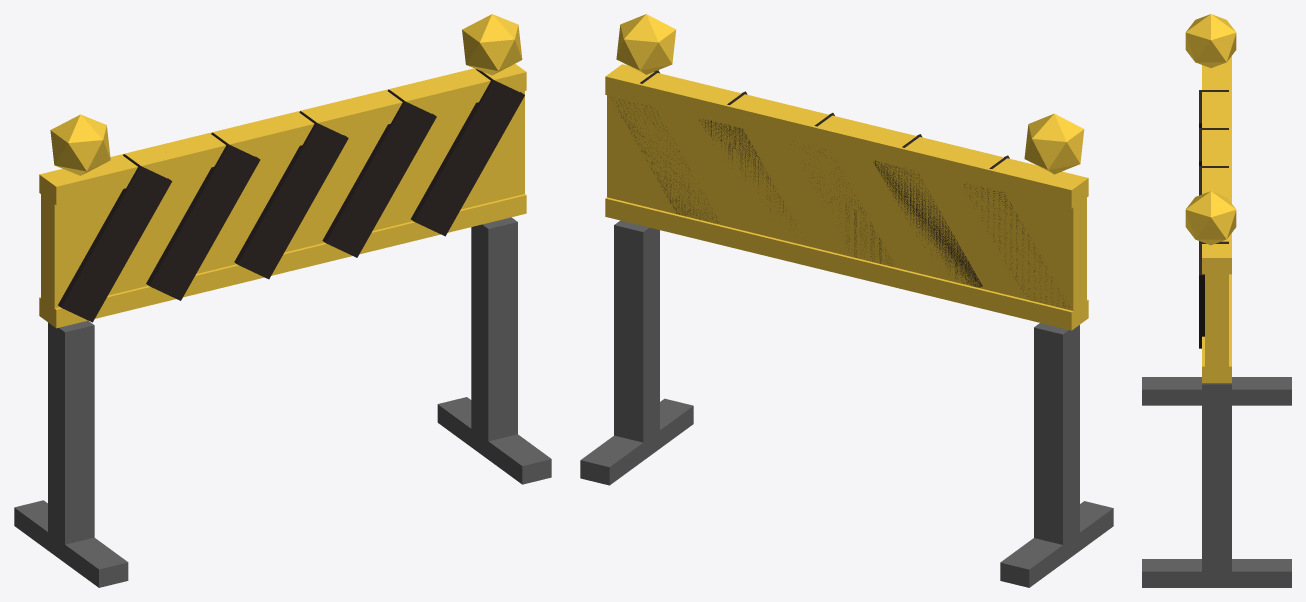
File: road_barrier.glb
3 views of the same model, side by side, from view 1: azimuth 30°, elevation 25°; view 2: azimuth 150°, elevation 25°; view 3: azimuth 270°, elevation 25° (orthographic). The views are drawn at different scales.
Visible parts, largest first — view 1: road_barrier; view 2: road_barrier; view 3: road_barrier.
Boxes of the visible parts, <box> form: road_barrier: <box>14,14,551,587</box>; road_barrier: <box>580,14,1113,587</box>; road_barrier: <box>1142,14,1291,587</box>.
Size of the model in its own units: 1.6 by 1.43 by 0.5.
